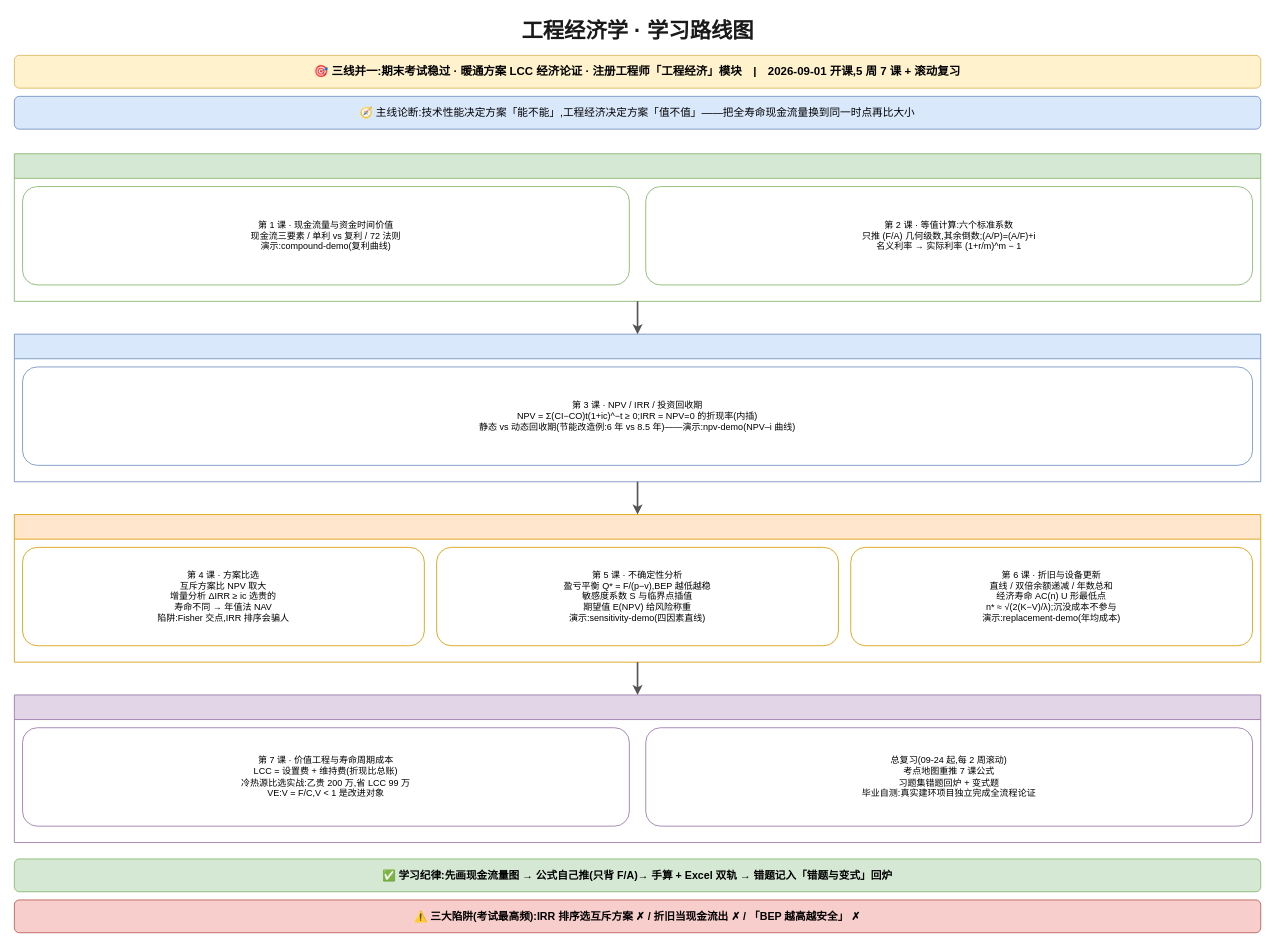
Some shapes in this 1275 by 947 pixel diagram are drawn without their labels. Here are the shapes that lost their labels. From the top down, the box of each, then its label:
(14, 153, 1261, 301): 阶段一 · 学科地基(D1–D2 · 09-01 / 09-03)
(14, 333, 1261, 482): 阶段二 · 评价指标(D3 · 09-08)
(14, 514, 1261, 662): 阶段三 · 决策方法(D4–D6 · 09-10 / 09-15 / 09-17)
(14, 694, 1261, 843): 阶段四 · 综合收官(D7 · 09-22 + 滚动复习)
